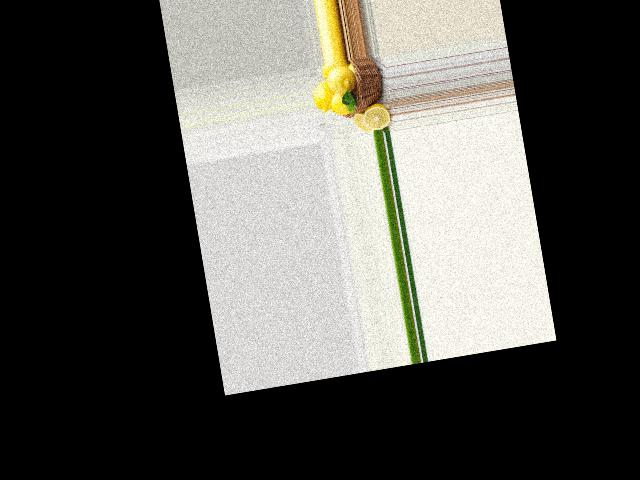lemon: (327, 86, 358, 118)
